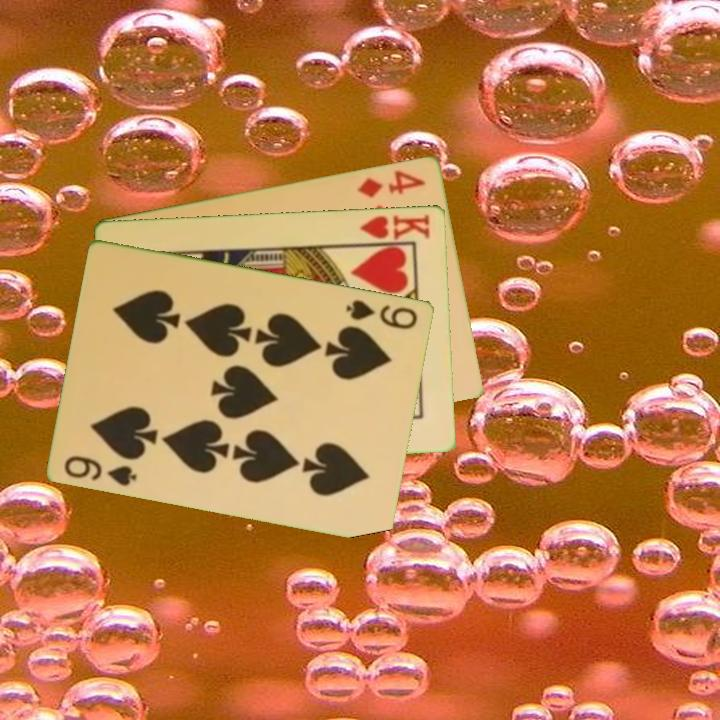4d: (354, 166, 428, 200)
9s: (61, 451, 140, 489), (343, 295, 421, 332)
Kh: (352, 211, 433, 246)
